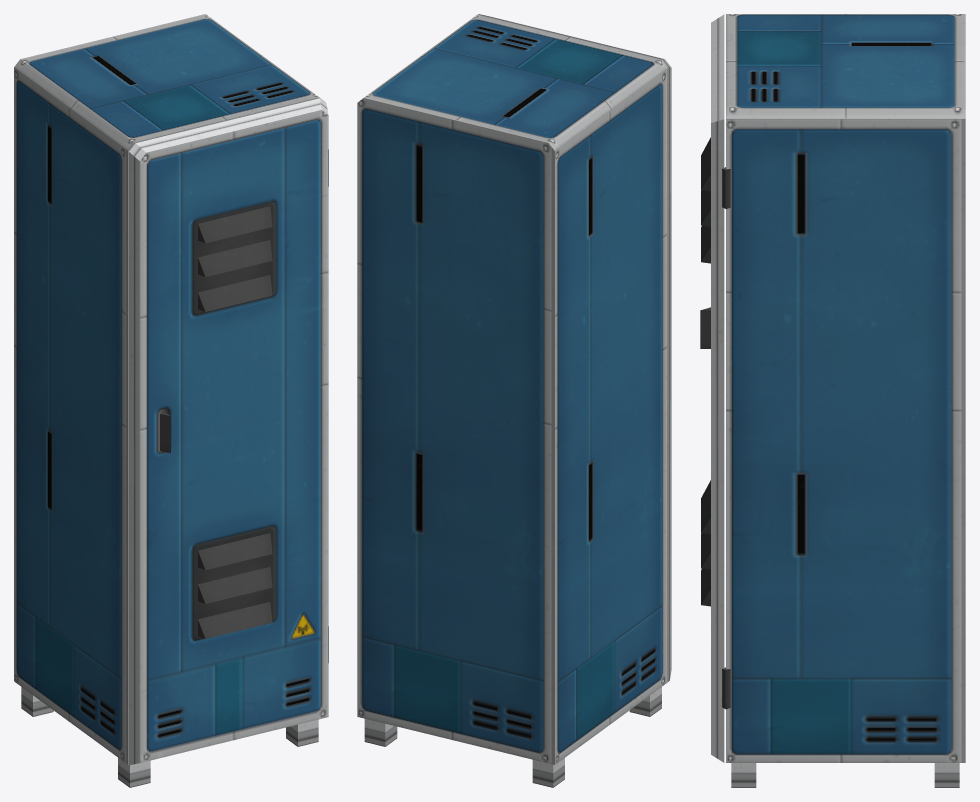
Rendered from Locker_01.FBX.
3 views of the same model, side by side, from view 1: azimuth 30°, elevation 25°; view 2: azimuth 150°, elevation 25°; view 3: azimuth 270°, elevation 25° (orthographic). The views are drawn at different scales.
Parts seen in each view (by area): view 1: Door, Locker_01; view 2: Locker_01, Door; view 3: Locker_01, Door.
Boxes of the visible parts, x1=… form: Door: x1=129, y1=98, x2=328, y2=765; Locker_01: x1=14, y1=14, x2=325, y2=787; Locker_01: x1=357, y1=14, x2=668, y2=787; Door: x1=478, y1=14, x2=671, y2=680; Locker_01: x1=726, y1=14, x2=965, y2=787; Door: x1=700, y1=14, x2=730, y2=762.
Bounding box in the file's own units: 29.34 × 90.28 × 31.96.
